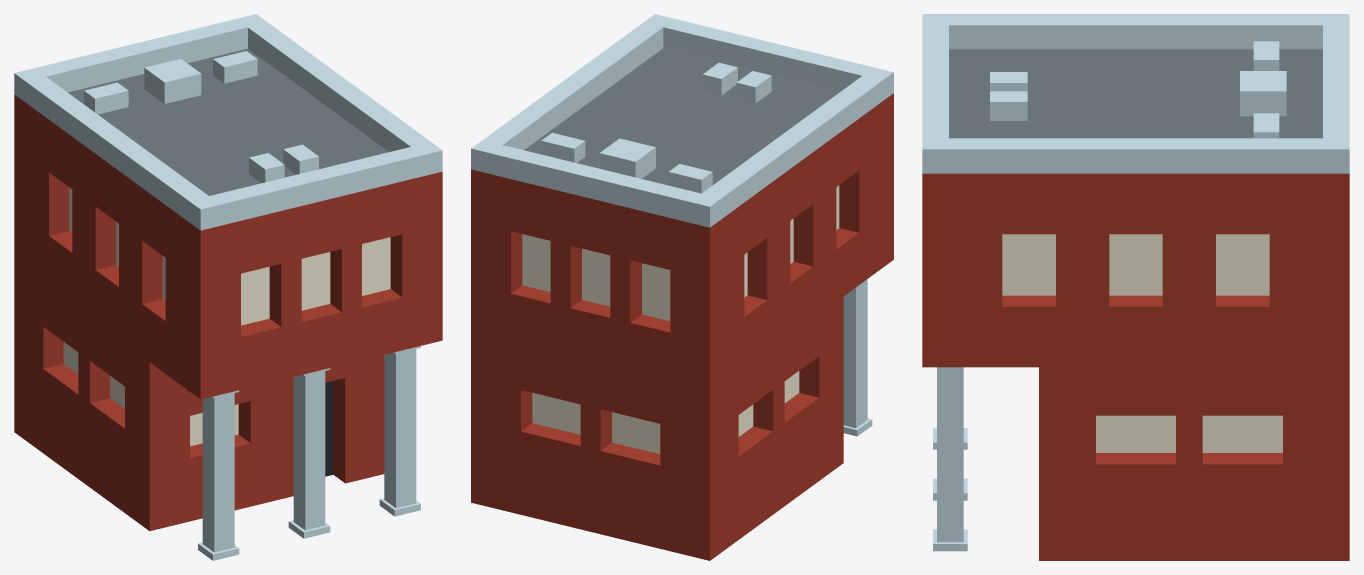
The model's file is Building_7_Extra (Red).obj.
3 views of the same model, side by side, from view 1: azimuth 30°, elevation 25°; view 2: azimuth 150°, elevation 25°; view 3: azimuth 270°, elevation 25° (orthographic). The views are drawn at different scales.
Visible parts, largest first — view 1: Building_7_Extra_(Red); view 2: Building_7_Extra_(Red); view 3: Building_7_Extra_(Red).
Boxes of the visible parts, x1,y1,x2,y2 form: Building_7_Extra_(Red): (14, 14, 442, 560); Building_7_Extra_(Red): (471, 14, 893, 560); Building_7_Extra_(Red): (922, 14, 1349, 560).
Size of the model in its own units: 1.2 by 1.7 by 1.6.
